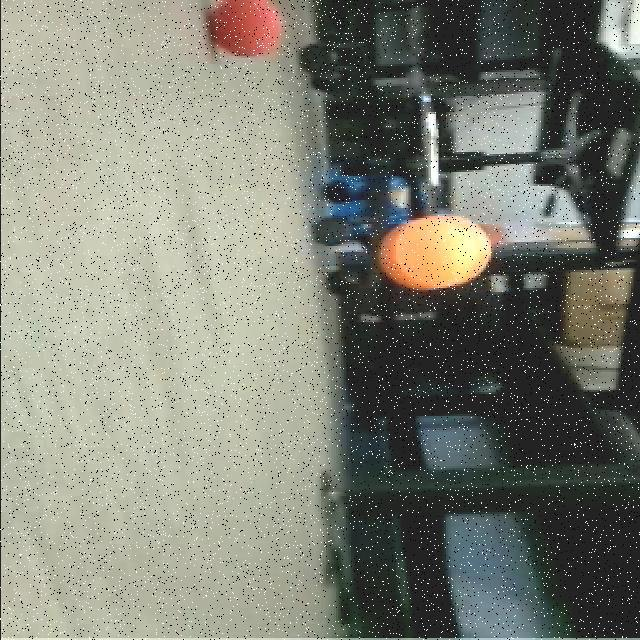ping-pong-ball: (378, 210, 490, 292), (204, 1, 289, 60)
